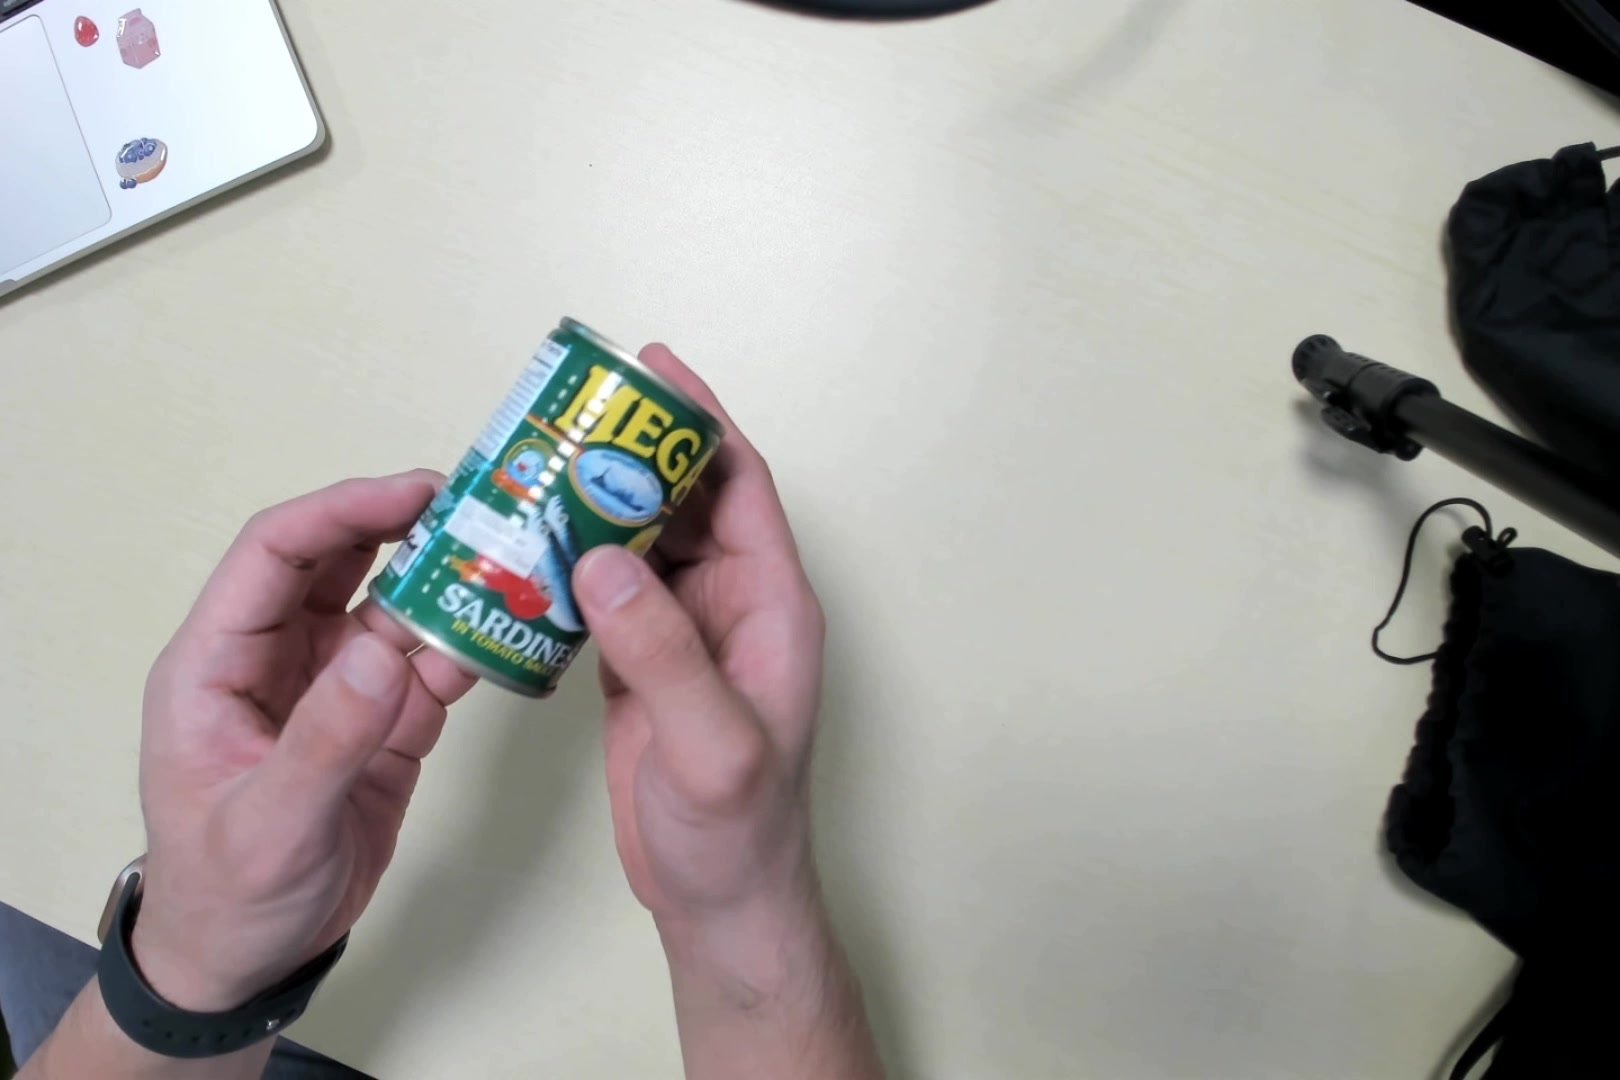CannedSardingMackerel_100-199g_NonHalal_NonHealthy: (378, 306, 717, 694)
